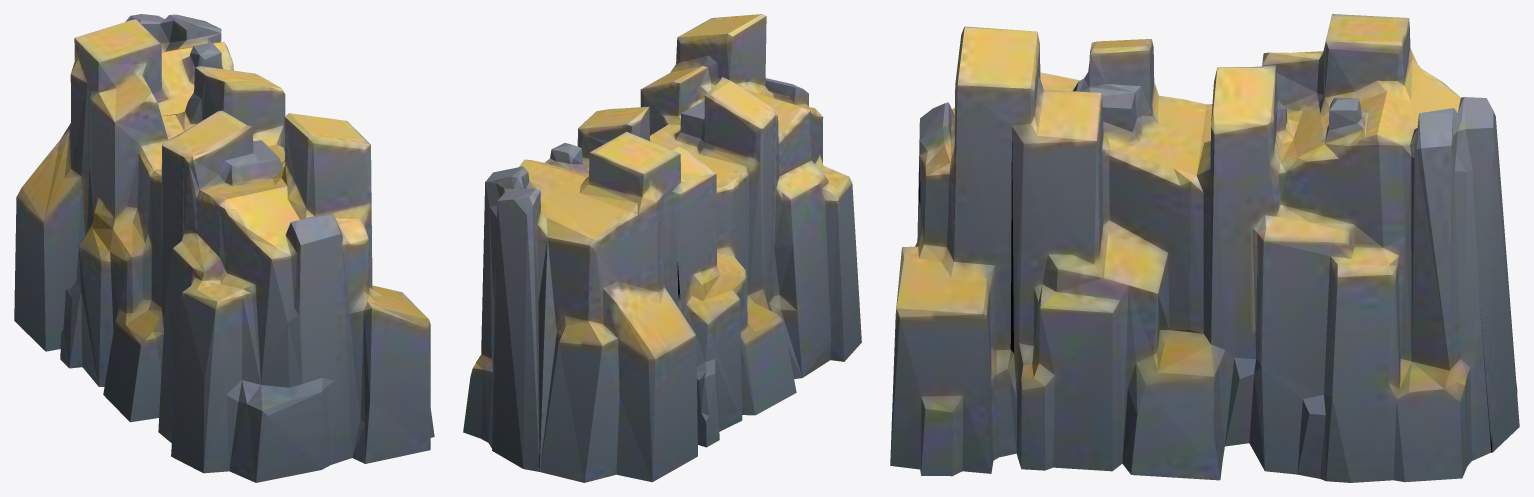
Rendered from cliff_tall_moss.glb.
3 renders of one model, left to right at view 1: azimuth 30°, elevation 25°; view 2: azimuth 150°, elevation 25°; view 3: azimuth 270°, elevation 25°, orthographic. The views are drawn at different scales.
Parts seen in each view (by area): view 1: cliff_tall_moss; view 2: cliff_tall_moss; view 3: cliff_tall_moss.
Part boxes in pixels (<box>): cliff_tall_moss: <box>14,14,434,482</box>; cliff_tall_moss: <box>463,14,861,482</box>; cliff_tall_moss: <box>890,14,1519,482</box>.
Size of the model in its own units: 6.09 by 7.95 by 11.74.
1 material, 1 textured.
